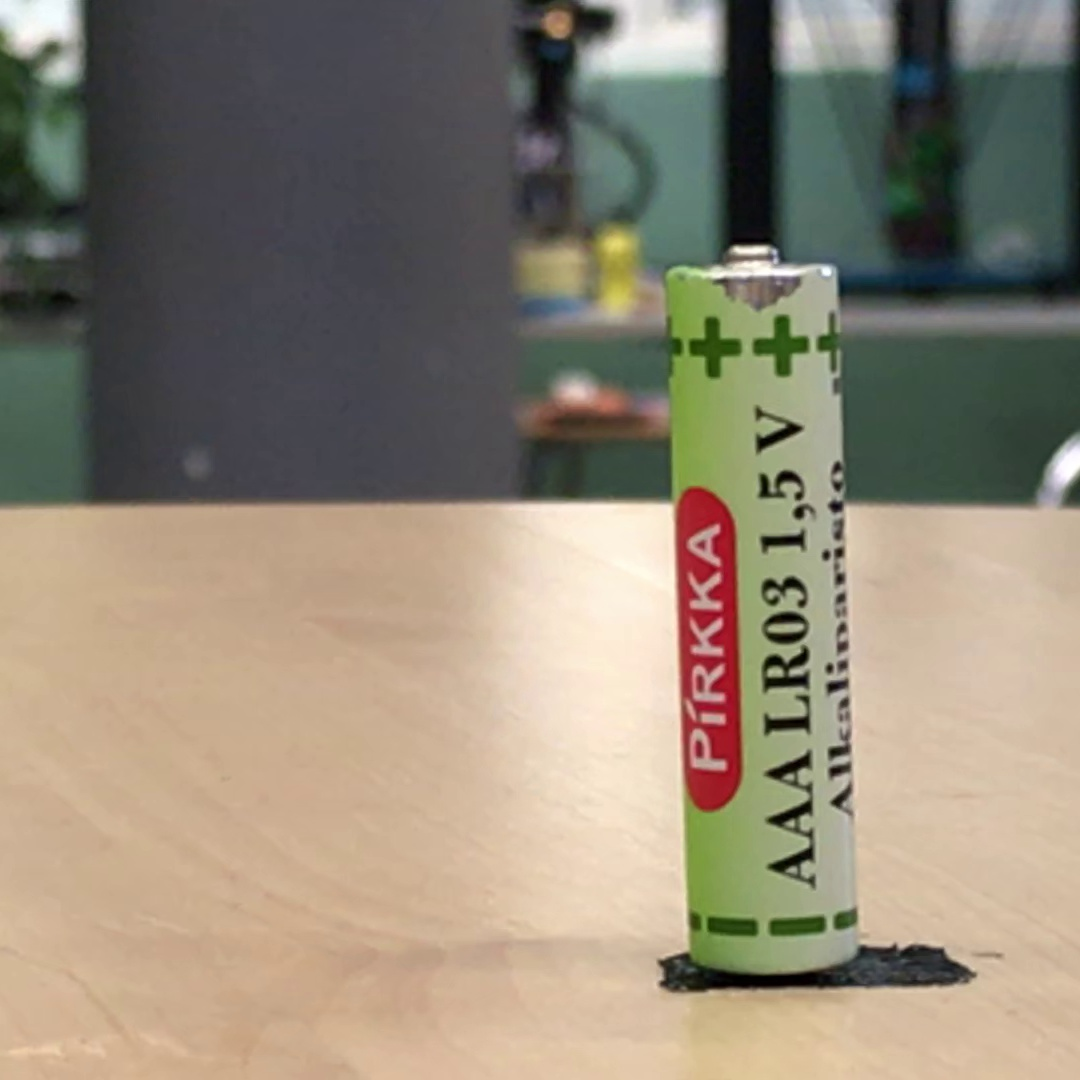keyword: (818, 730, 863, 826)
